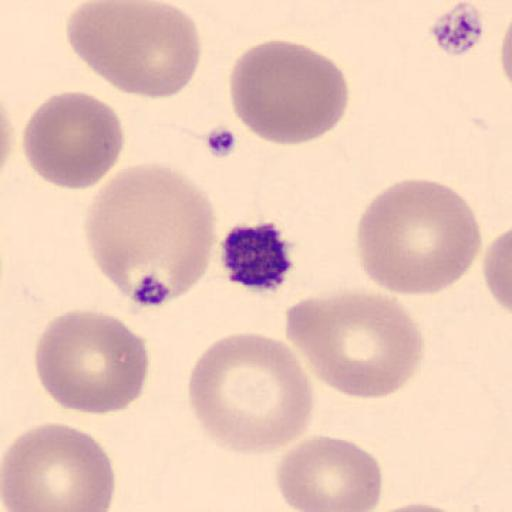Platelet: (219, 219, 297, 294)
RBC: (84, 161, 218, 303), (187, 330, 315, 456), (288, 286, 426, 400), (355, 176, 483, 296), (66, 1, 203, 101), (227, 38, 350, 147), (32, 308, 150, 416), (0, 420, 117, 512), (21, 90, 125, 190), (274, 433, 384, 512), (482, 225, 512, 315), (363, 500, 474, 512), (499, 0, 512, 100), (0, 96, 14, 176)
